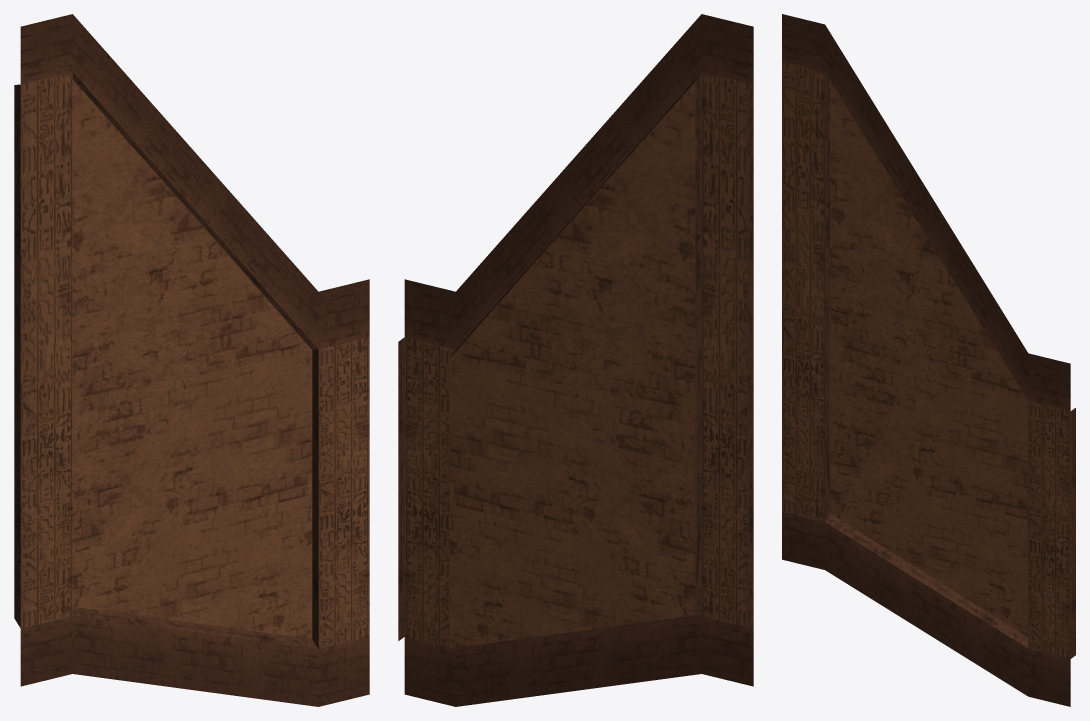
Rendered from Wall_Stairs_02.fbx.
The picture shows the model from 3 angles, left to right: view 1: azimuth 30°, elevation 25°; view 2: azimuth 150°, elevation 25°; view 3: azimuth 330°, elevation 25°; orthographic projection. The views are drawn at different scales.
Visible parts, largest first — view 1: Wall_Stairs_02; view 2: Wall_Stairs_02; view 3: Wall_Stairs_02.
Boxes of the visible parts, x1,y1,x2,y2 form: Wall_Stairs_02: (14,14,369,706); Wall_Stairs_02: (398,14,753,706); Wall_Stairs_02: (782,14,1075,706).
Bounding box in the file's own units: 116 × 240 × 3.69.
